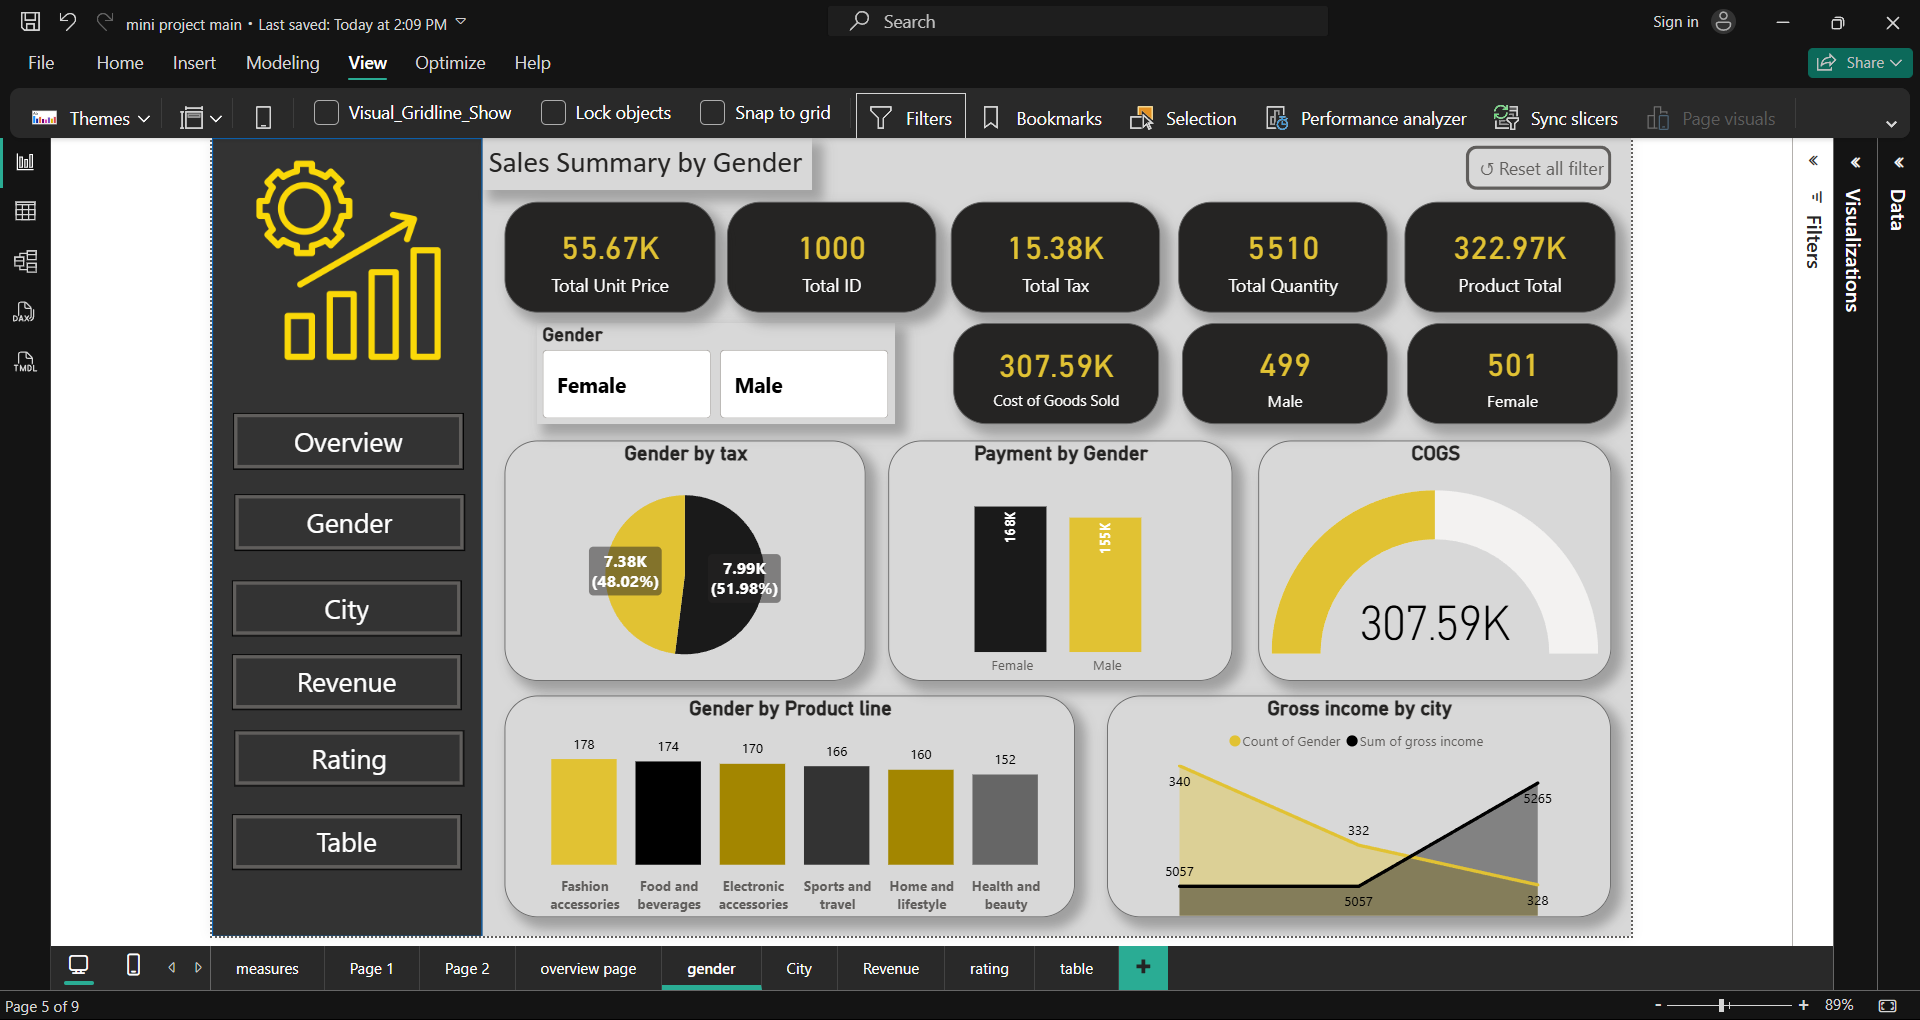

The page's visual inventory and layout, read from the dashboard file:
{"tool":"powerbi","page":{"name":"gender","canvas":[1280,720],"ordinal":4},"visuals":[{"type":"shape","box":[0,0,243.8,720.3],"z":0},{"type":"card","fields":{"Values":["Sheet1.Product Total"]},"box":[1075.7,57.1,190,100],"z":1000},{"type":"card","fields":{"Values":["Sheet1.Total ID"]},"box":[464.3,57.1,188.6,100],"z":2000},{"type":"card","fields":{"Values":["Sheet1.Total Quantity"]},"box":[871.4,57.1,188.6,100],"z":3000},{"type":"card","fields":{"Values":["Sheet1.Total Tax"]},"box":[665.7,57.1,188.6,100],"z":4000},{"type":"card","fields":{"Values":["Sheet1.Total Unit Price"]},"box":[264.3,57.1,190,100],"z":5000},{"type":"actionButton","box":[18.7,247.5,207.7,51],"z":6000},{"type":"actionButton","box":[19.9,320.9,207.7,51],"z":7000},{"type":"image","box":[18.7,19.9,207.7,180.4],"z":8000},{"type":"card","fields":{"Values":["Sheet1.Cost of Goods Sold"]},"box":[668.6,167.1,185.7,91.4],"z":9000},{"type":"card","fields":{"Values":["Sheet1.Male"]},"box":[874.3,167.1,185.7,91.4],"z":10000},{"type":"card","fields":{"Values":["Sheet1.Female"]},"box":[1077.1,167.1,190,91.4],"z":11000},{"type":"pieChart","title":"Gender by tax","fields":{"Category":["Sheet1.Gender"],"Y":["Sum(Sheet1.Tax 5%)"]},"box":[264.3,272.9,325.7,217.1],"z":12000},{"type":"clusteredColumnChart","title":" Payment by Gender","fields":{"Category":["Sheet1.Gender"],"Y":["Sum(Sheet1.Total)"]},"box":[610,272.9,310,217.1],"z":13000},{"type":"gauge","title":"COGS","fields":{"Y":["Sum(Sheet1.cogs)"]},"box":[942.9,272.9,318.6,217.1],"z":14000},{"type":"columnChart","title":"Gender by Product line","fields":{"Category":["Sheet1.Product line"],"Y":["CountNonNull(Sheet1.Gender)"]},"box":[264.3,502.9,514.3,200],"z":15000},{"type":"advancedSlicerVisual","fields":{"Values":["Sheet1.Gender"]},"box":[292.9,167.1,322.9,91.4],"z":16000},{"type":"areaChart","title":" Gross income by city","fields":{"Category":["Sheet1.City"],"Y":["CountNonNull(Sheet1.Gender)"],"Y2":["Sum(Sheet1.gross income)"]},"box":[807.1,502.9,454.3,200],"z":17000},{"type":"textbox","box":[244.3,0,297.1,47.1],"z":18000},{"type":"actionButton","box":[18.6,398.6,207.1,50],"z":19000},{"type":"actionButton","box":[18.6,465.7,207.1,50],"z":20000},{"type":"actionButton","box":[20,534.3,207.1,50],"z":21000},{"type":"actionButton","box":[18.6,610,207.1,50],"z":22000},{"type":"actionButton","box":[1130,7.1,131.4,40],"z":23000}]}

Visuals, with their boxes on the page's 1280x720 design canvas (x1, y1, x2, y2). These are canvas units, not pixel positions in the 1920x1020 screenshot, which may show the page scaled, cropped or inside an application window:
shape: (x1=0, y1=0, x2=244, y2=720)
card - Sheet1.Product Total: (x1=1076, y1=57, x2=1266, y2=157)
card - Sheet1.Total ID: (x1=464, y1=57, x2=653, y2=157)
card - Sheet1.Total Quantity: (x1=871, y1=57, x2=1060, y2=157)
card - Sheet1.Total Tax: (x1=666, y1=57, x2=854, y2=157)
card - Sheet1.Total Unit Price: (x1=264, y1=57, x2=454, y2=157)
actionButton: (x1=19, y1=248, x2=226, y2=298)
actionButton: (x1=20, y1=321, x2=228, y2=372)
image: (x1=19, y1=20, x2=226, y2=200)
card - Sheet1.Cost of Goods Sold: (x1=669, y1=167, x2=854, y2=258)
card - Sheet1.Male: (x1=874, y1=167, x2=1060, y2=258)
card - Sheet1.Female: (x1=1077, y1=167, x2=1267, y2=258)
"Gender by tax" pieChart: (x1=264, y1=273, x2=590, y2=490)
" Payment by Gender" clusteredColumnChart: (x1=610, y1=273, x2=920, y2=490)
"COGS" gauge: (x1=943, y1=273, x2=1262, y2=490)
"Gender by Product line" columnChart: (x1=264, y1=503, x2=779, y2=703)
advancedSlicerVisual - Sheet1.Gender: (x1=293, y1=167, x2=616, y2=258)
" Gross income by city" areaChart: (x1=807, y1=503, x2=1261, y2=703)
textbox: (x1=244, y1=0, x2=541, y2=47)
actionButton: (x1=19, y1=399, x2=226, y2=449)
actionButton: (x1=19, y1=466, x2=226, y2=516)
actionButton: (x1=20, y1=534, x2=227, y2=584)
actionButton: (x1=19, y1=610, x2=226, y2=660)
actionButton: (x1=1130, y1=7, x2=1261, y2=47)
